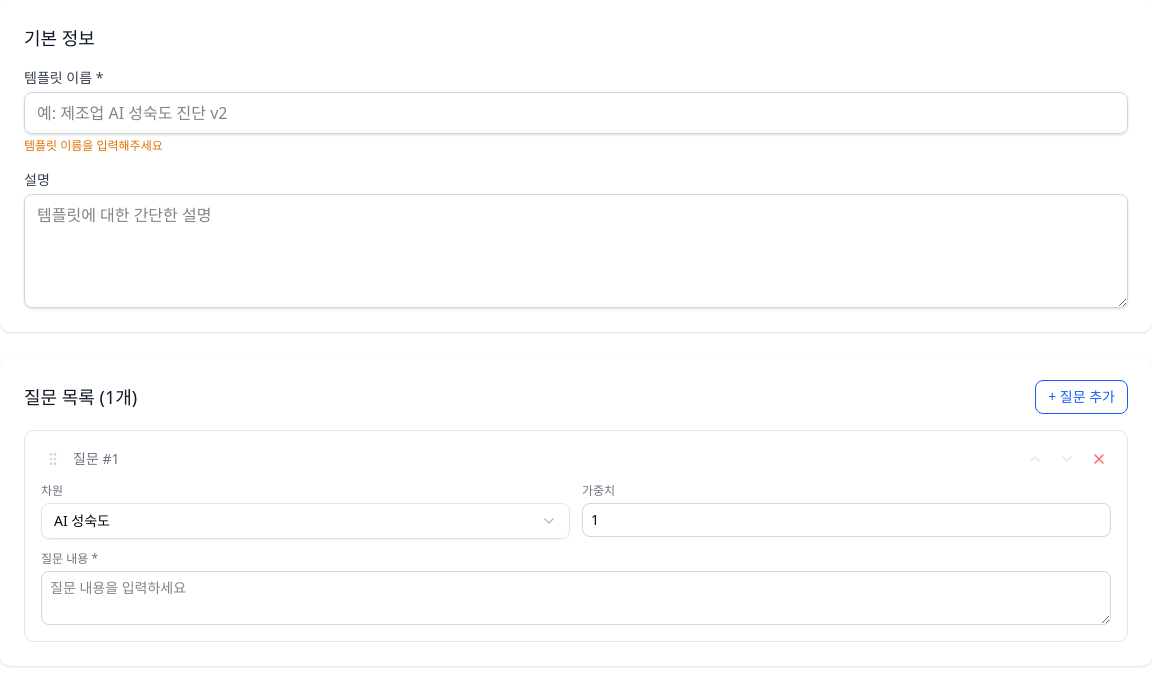
it: TemplateForm › 질문 추가/삭제 › 질문이 2개일 때 삭제하면 1개만 남는다
Click the button "+ 질문 추가" at [1082, 397], box [1035,380,1128,414]
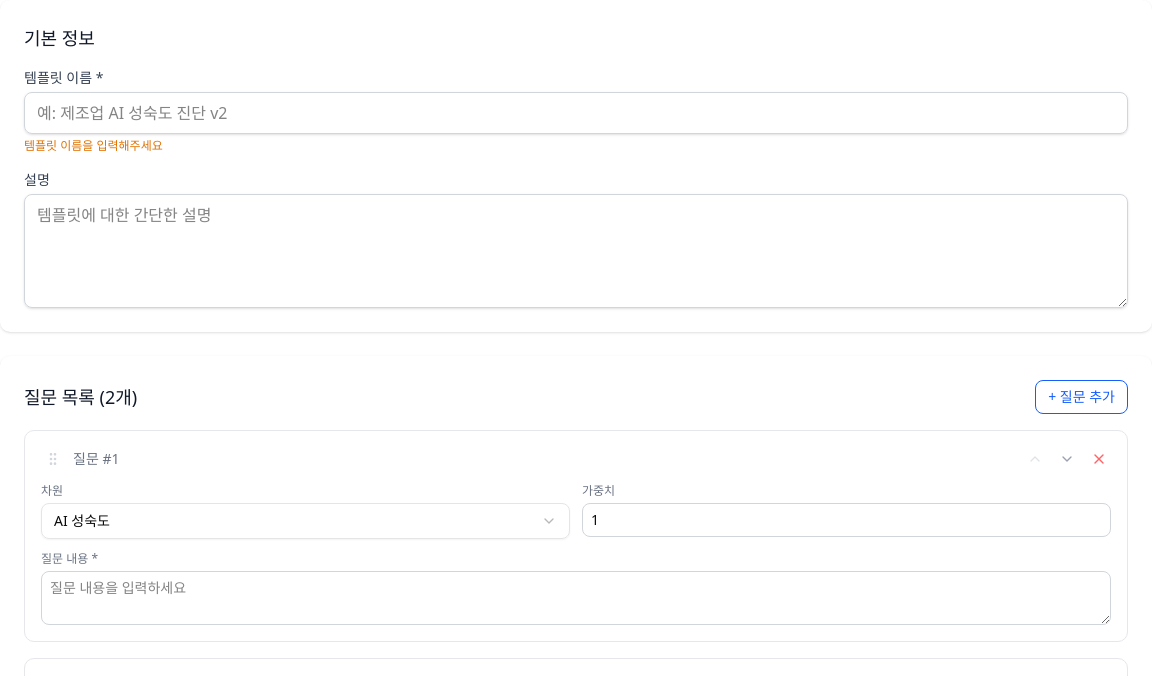
Click the 1st button titled "삭제" at [1099, 459], box [1087,447,1111,471]
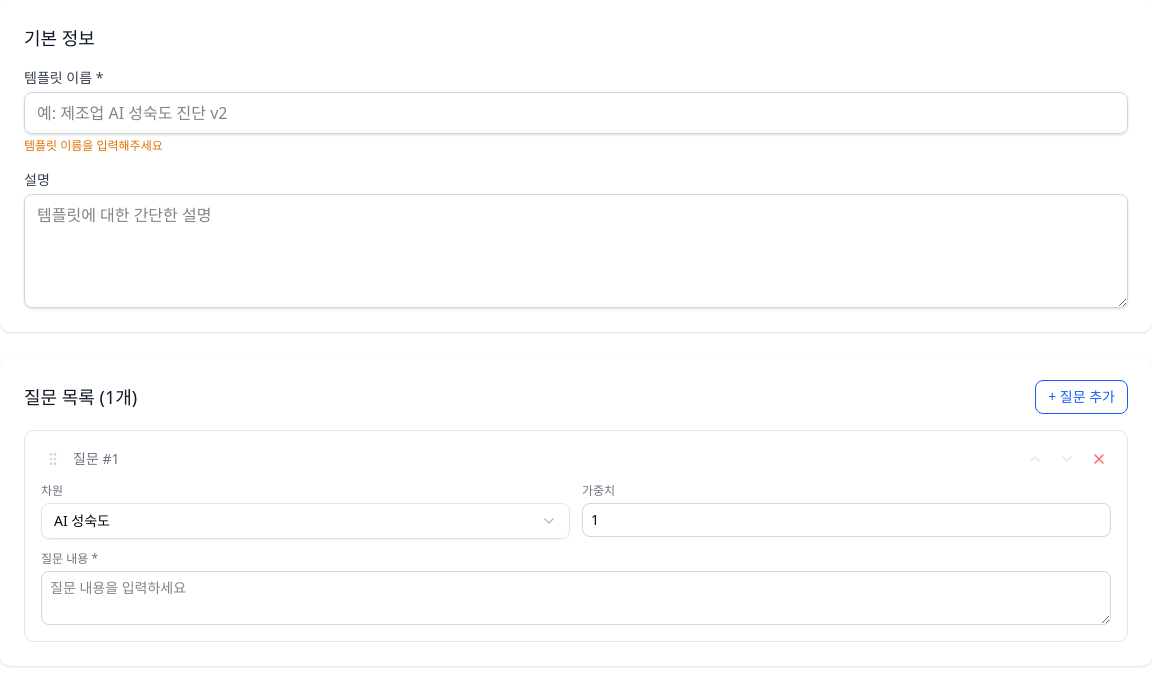
Check: the number of elements with test id "reorder-item" is 1, box [24,430,1128,642]
